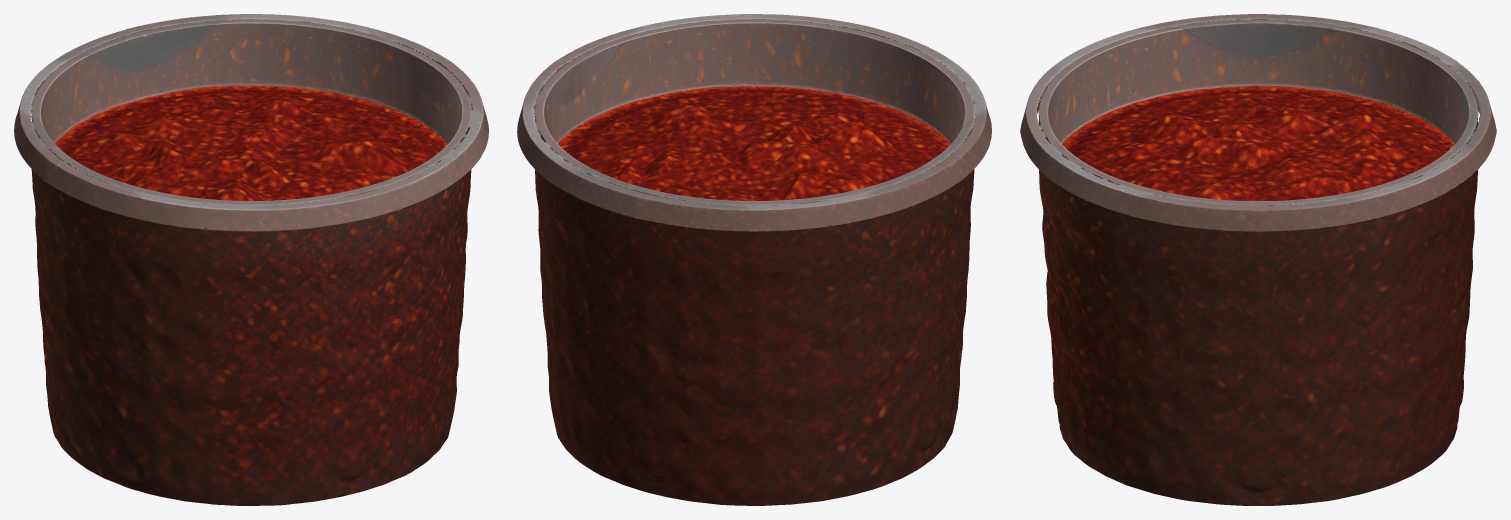
The model's file is spice_level_3.fbx.
The picture shows the model from 3 angles, left to right: view 1: azimuth 30°, elevation 25°; view 2: azimuth 150°, elevation 25°; view 3: azimuth 270°, elevation 25°; orthographic projection.
Visible parts, largest first — view 1: Mesh_0; view 2: Mesh_0; view 3: Mesh_0.
Part boxes in pixels (x1=…): Mesh_0: x1=14, y1=14, x2=488, y2=505; Mesh_0: x1=517, y1=14, x2=991, y2=505; Mesh_0: x1=1020, y1=14, x2=1496, y2=505.
Size of the model in its own units: 190 by 136 by 190.
1 material, 1 textured.
